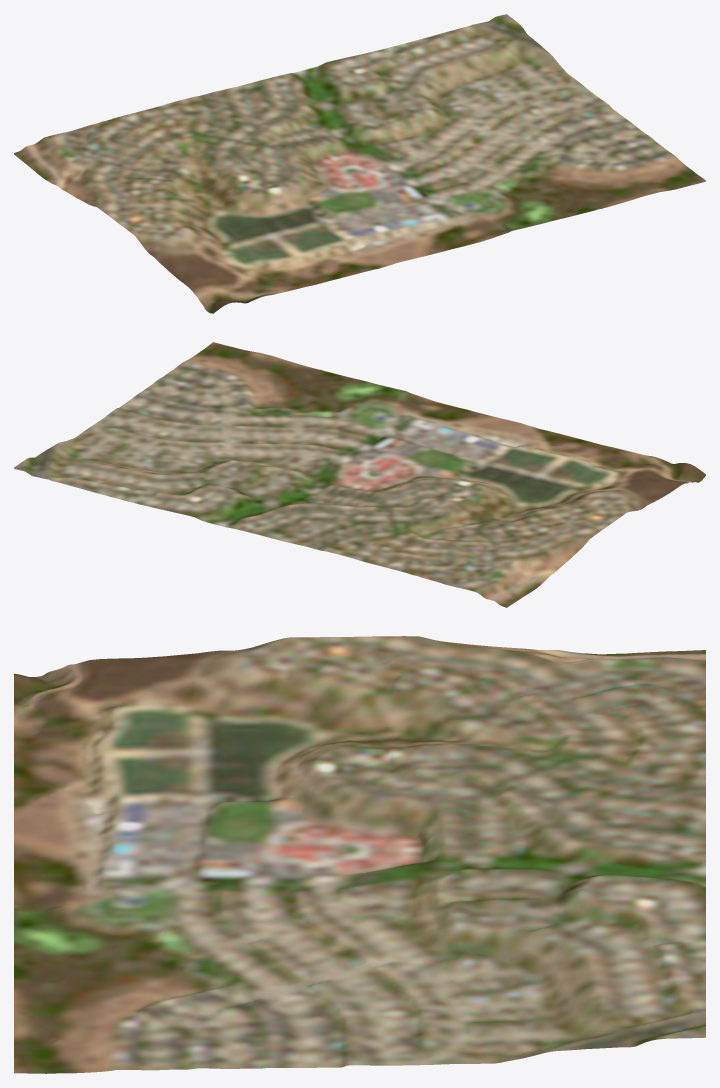
File: terrain_r5_c4.glb
3 views of the same model, one above another, from view 1: azimuth 30°, elevation 25°; view 2: azimuth 150°, elevation 25°; view 3: azimuth 270°, elevation 25° (orthographic). The views are drawn at different scales.
Parts seen in each view (by area): view 1: terrain_r5_c4_lod0; view 2: terrain_r5_c4_lod0; view 3: terrain_r5_c4_lod0.
Part boxes in pixels (<box>): terrain_r5_c4_lod0: <box>14,14,705,313</box>; terrain_r5_c4_lod0: <box>14,342,705,607</box>; terrain_r5_c4_lod0: <box>14,636,705,1073</box>.
Size of the model in its own units: 1125 by 78.15 by 787.
Materials: 1 (1 with a texture image).
